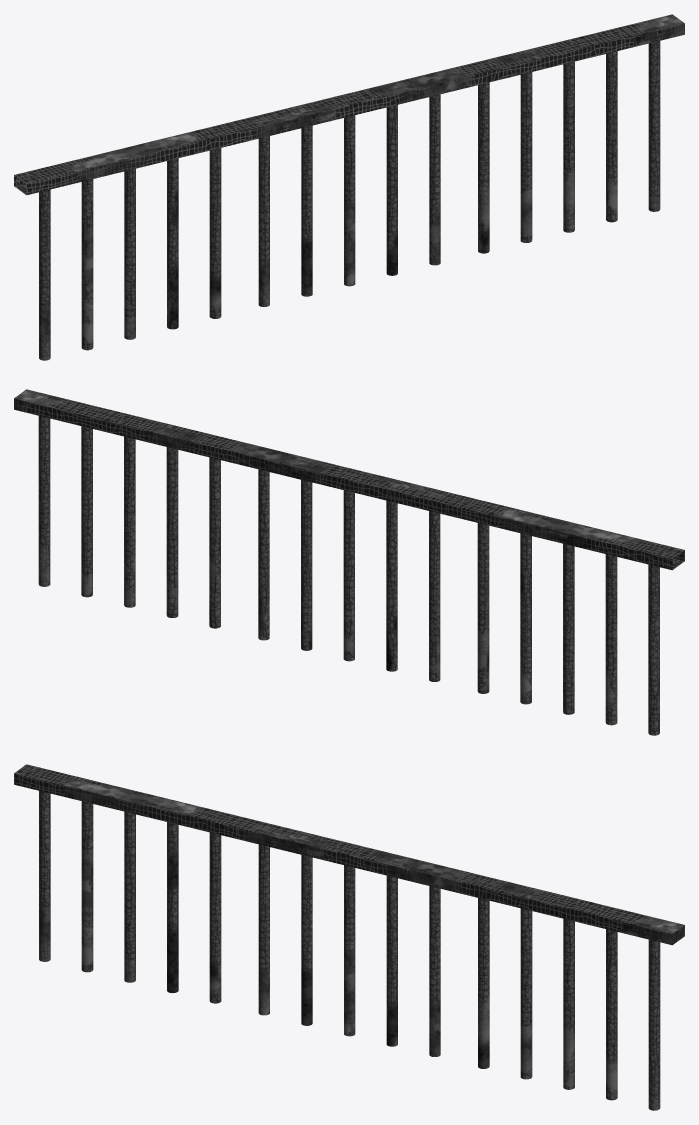
Rendered from FenceBig.fbx.
3 renders of one model, top to bottom at view 1: azimuth 30°, elevation 25°; view 2: azimuth 150°, elevation 25°; view 3: azimuth 330°, elevation 25°, orthographic.
Parts seen in each view (by area): view 1: Fence; view 2: Fence; view 3: Fence.
Boxes of the visible parts, x1=… form: Fence: x1=14, y1=14, x2=684, y2=360; Fence: x1=14, y1=389, x2=684, y2=735; Fence: x1=14, y1=764, x2=684, y2=1110.
Size of the model in its own units: 300 by 80.39 by 9.85.
